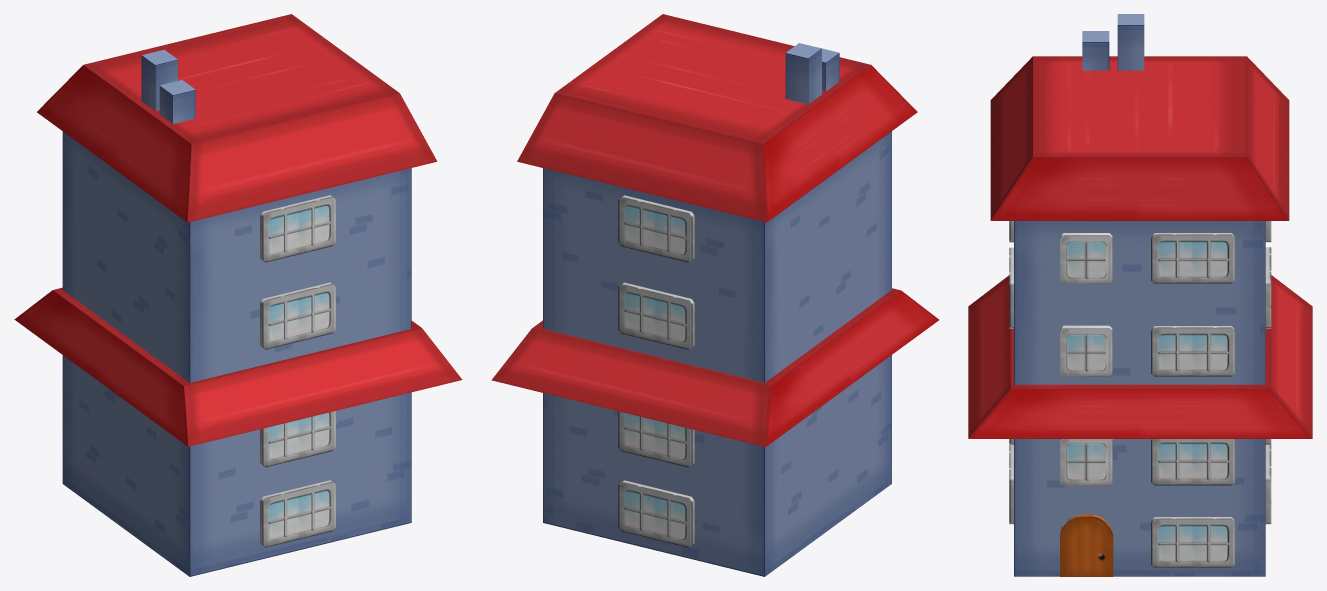
File: House_8.fbx
The picture shows the model from 3 angles, left to right: view 1: azimuth 30°, elevation 25°; view 2: azimuth 150°, elevation 25°; view 3: azimuth 270°, elevation 25°; orthographic projection.
Visible parts, largest first — view 1: House_8; view 2: House_8; view 3: House_8.
Boxes of the visible parts, x1,y1,x2,y2 form: House_8: [14, 14, 462, 576]; House_8: [491, 14, 939, 576]; House_8: [968, 14, 1312, 576].
Bounding box in the file's own units: 8.66 × 14.15 × 9.51.
